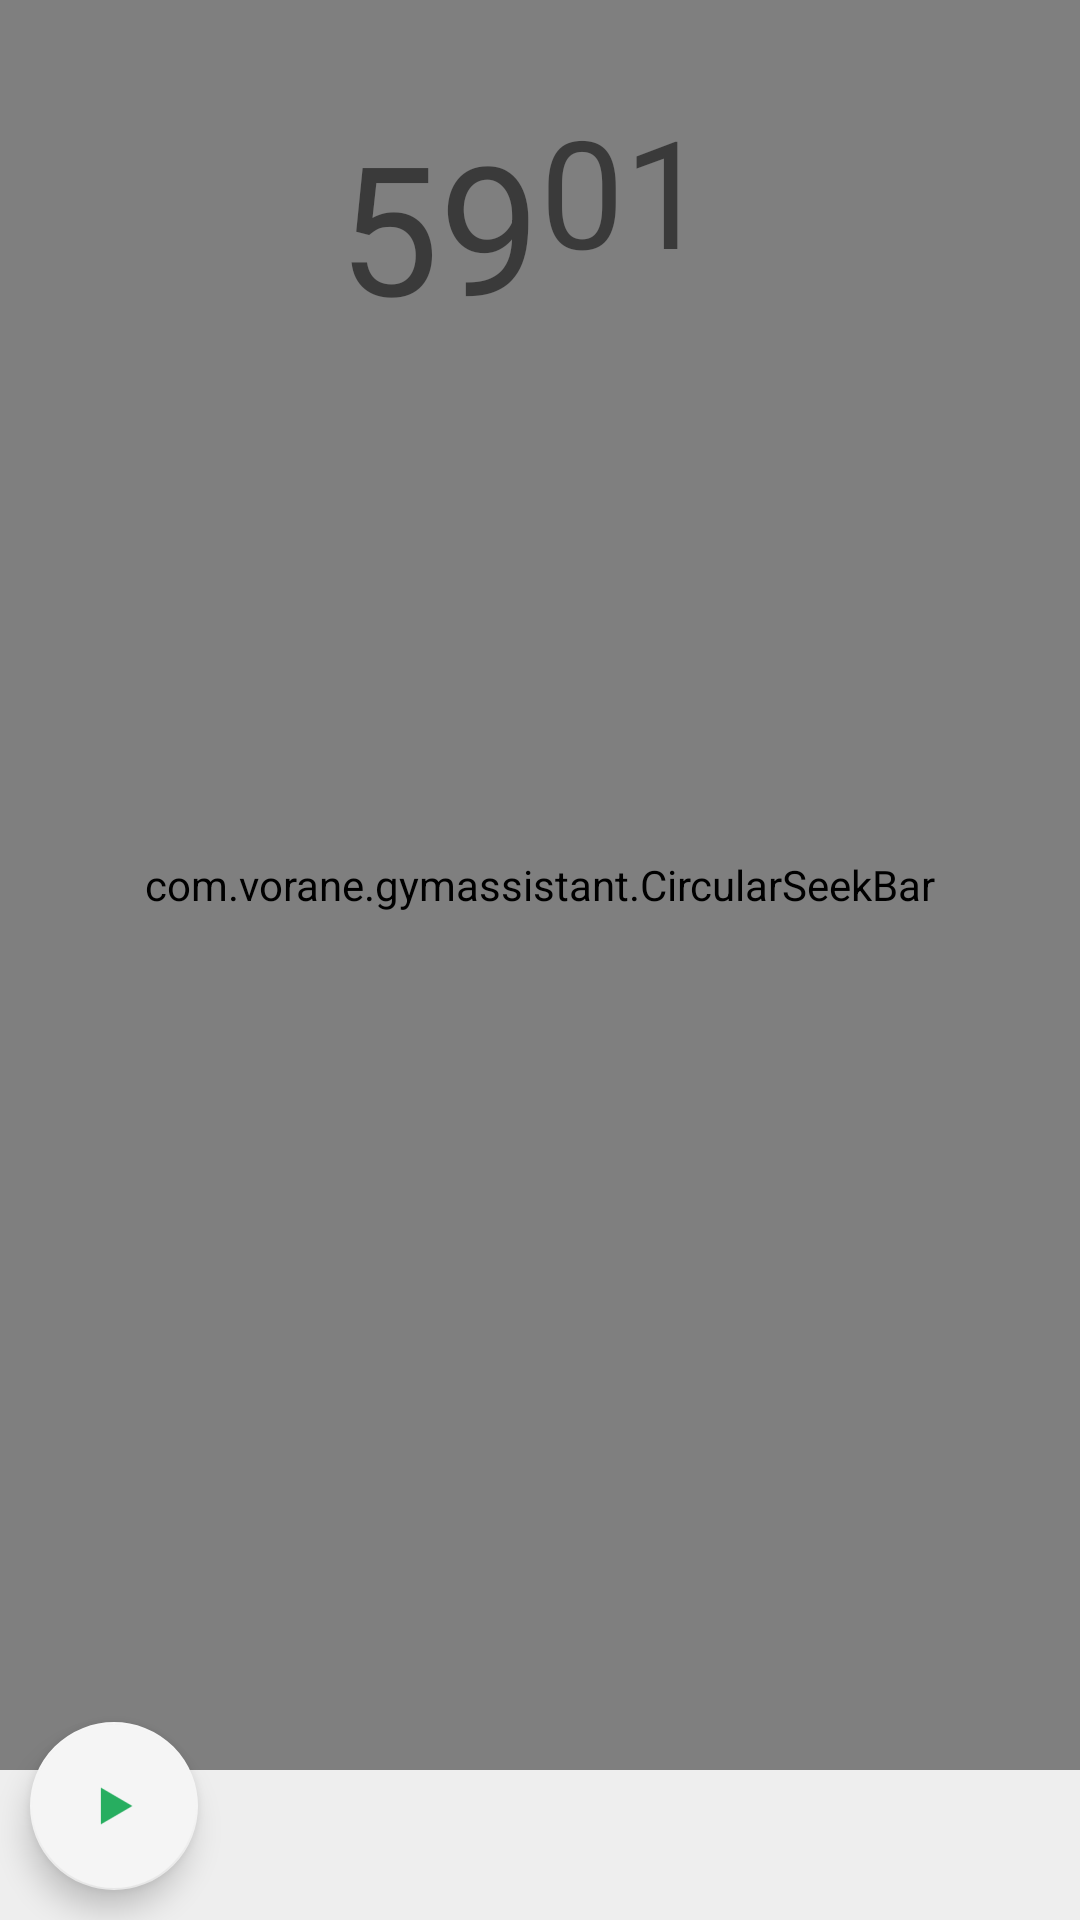

Point at icon controls on the screen. Image size 1080 x 1920, points as (x,y).
play: (114,1806)
